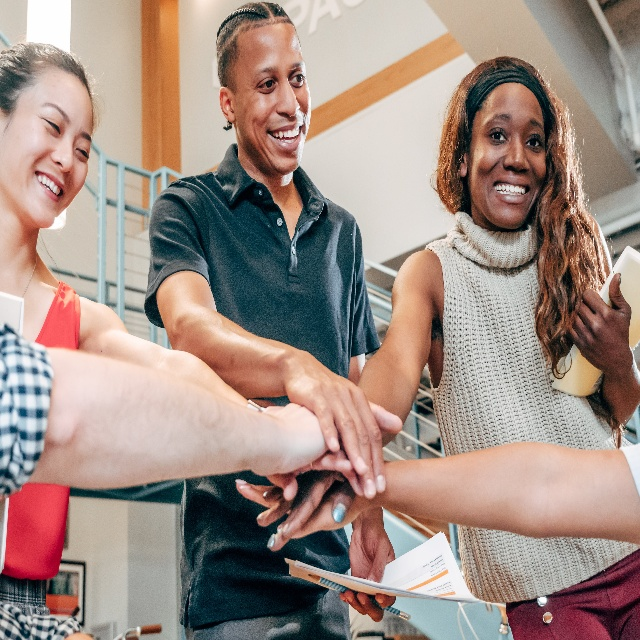Sin_guantes: (281, 348, 403, 502), (258, 471, 352, 553), (568, 273, 632, 378), (339, 519, 397, 624), (250, 402, 326, 480), (269, 445, 363, 499)
